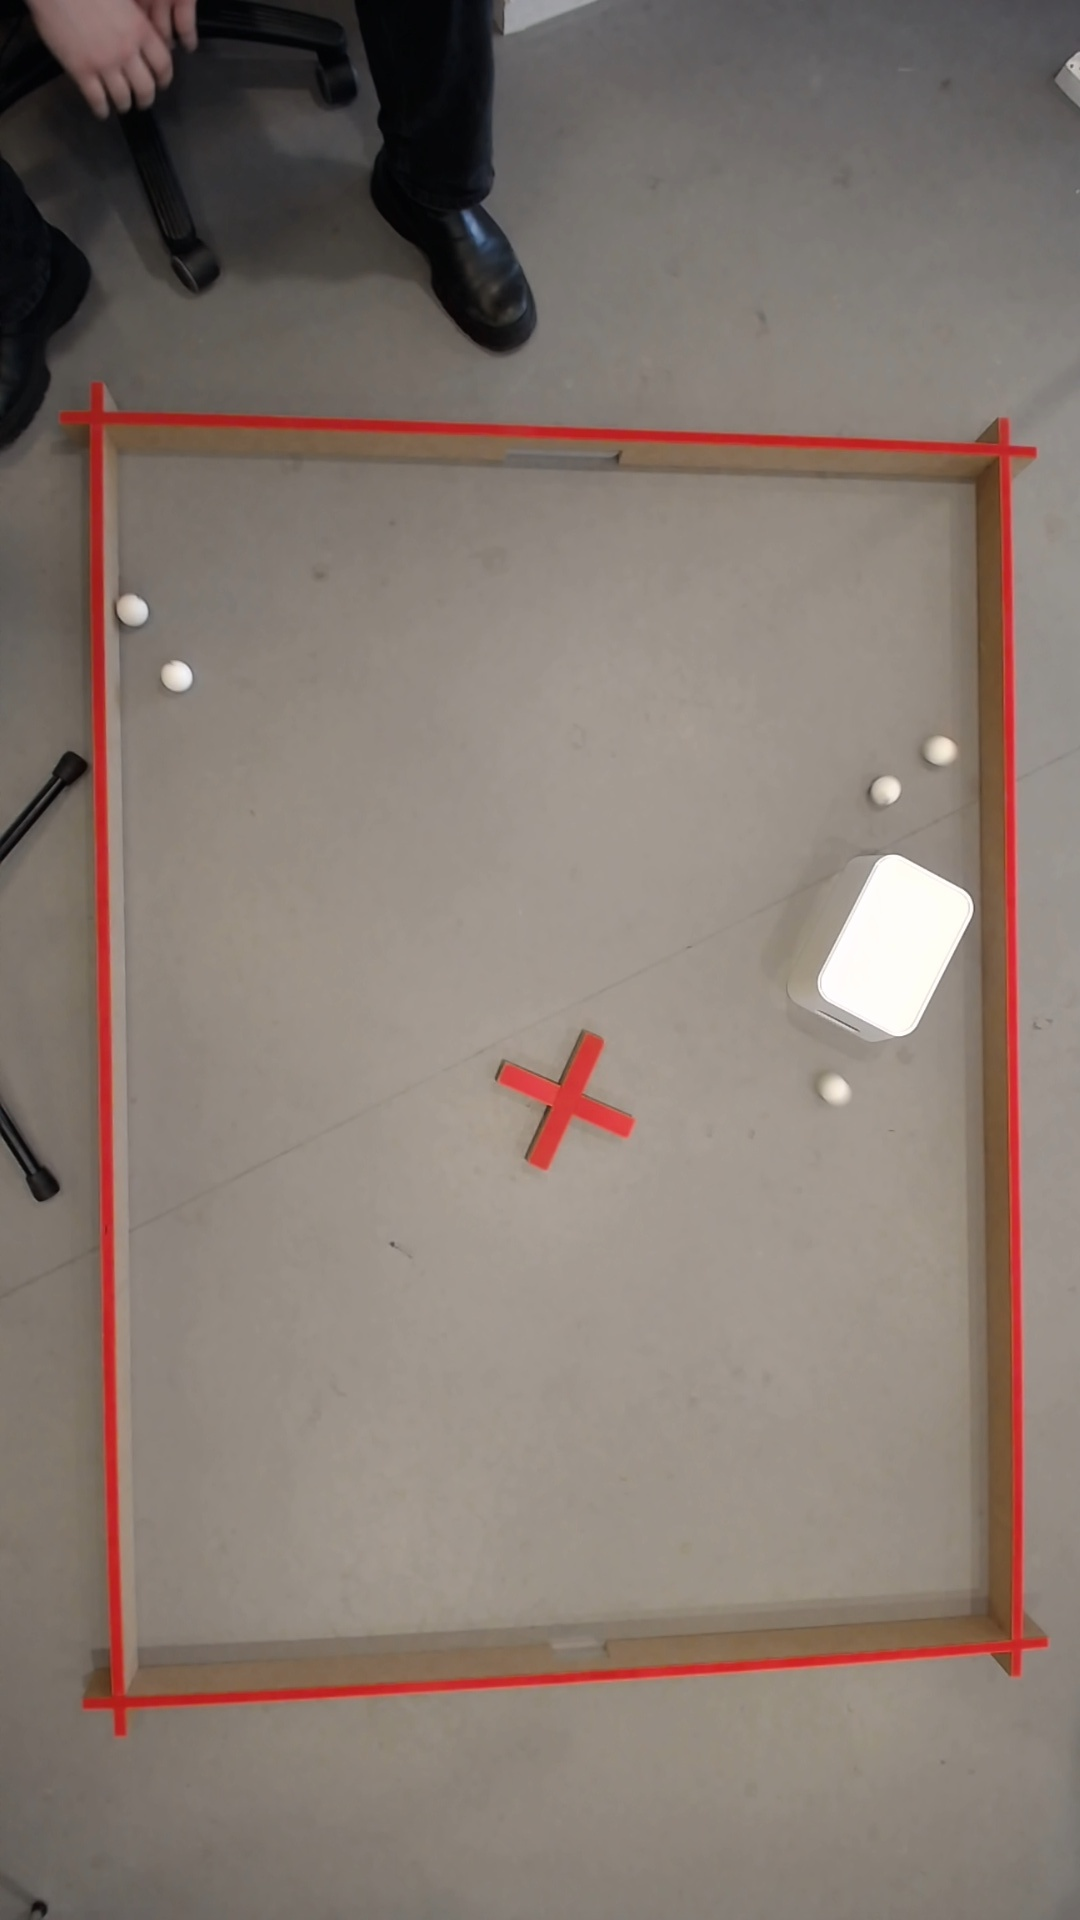balls: (807, 845, 981, 1043), (162, 658, 195, 692), (927, 733, 957, 765), (121, 593, 150, 622), (824, 1075, 851, 1102)
car: (877, 775, 903, 802)
